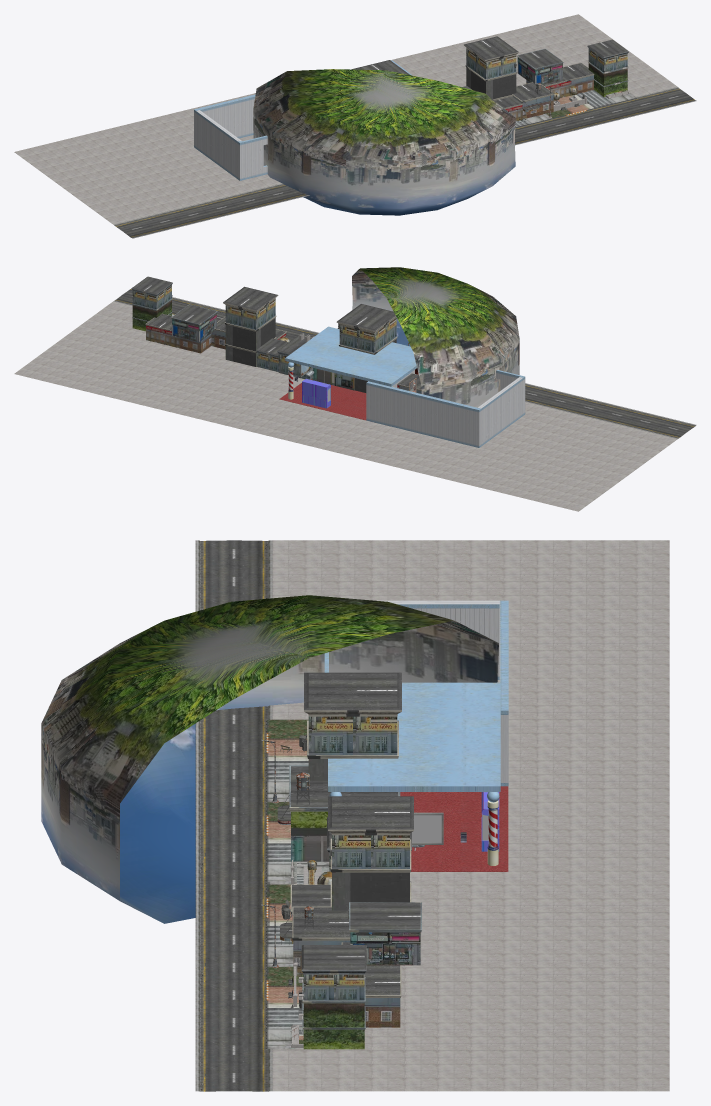
Rendered from Barber_Shop.glb.
3 renders of one model, top to bottom at view 1: azimuth 30°, elevation 25°; view 2: azimuth 150°, elevation 25°; view 3: azimuth 270°, elevation 25°, orthographic. The views are drawn at different scales.
Parts seen in each view (by area): view 1: Barber_Shop; view 2: Barber_Shop; view 3: Barber_Shop.
Part boxes in pixels (bbox=[...]): Barber_Shop: bbox=[14, 14, 696, 238]; Barber_Shop: bbox=[14, 267, 696, 511]; Barber_Shop: bbox=[41, 540, 669, 1091].
Size of the model in its own units: 462 by 89.79 by 223.
18 materials, 17 textured.
